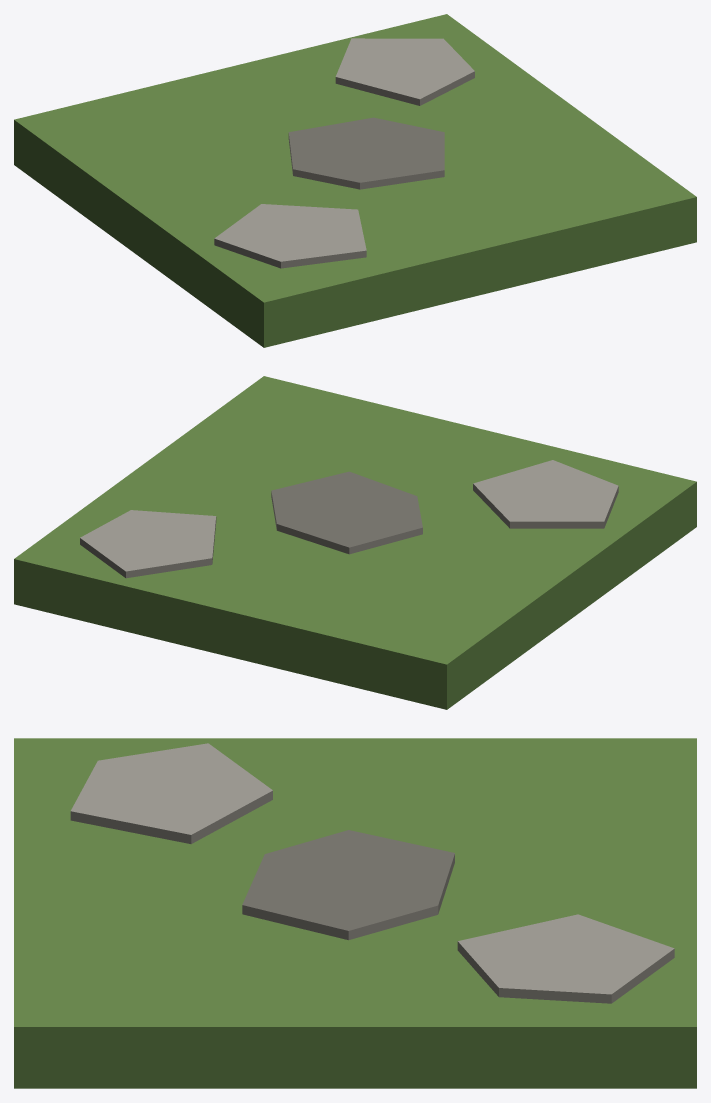
Rendered from sakura_floor_stone_path.glb.
3 views of the same model, one above another, from view 1: azimuth 30°, elevation 25°; view 2: azimuth 150°, elevation 25°; view 3: azimuth 270°, elevation 25° (orthographic). The views are drawn at different scales.
Parts seen in each view (by area): view 1: sakura_floor_stone_path; view 2: sakura_floor_stone_path; view 3: sakura_floor_stone_path.
Boxes of the visible parts, x1,y1,x2,y2 form: sakura_floor_stone_path: (14, 14, 696, 347); sakura_floor_stone_path: (14, 376, 696, 709); sakura_floor_stone_path: (14, 738, 696, 1088).
Bounding box in the file's own units: 1 × 0.115 × 1.
1 material, 1 textured.
